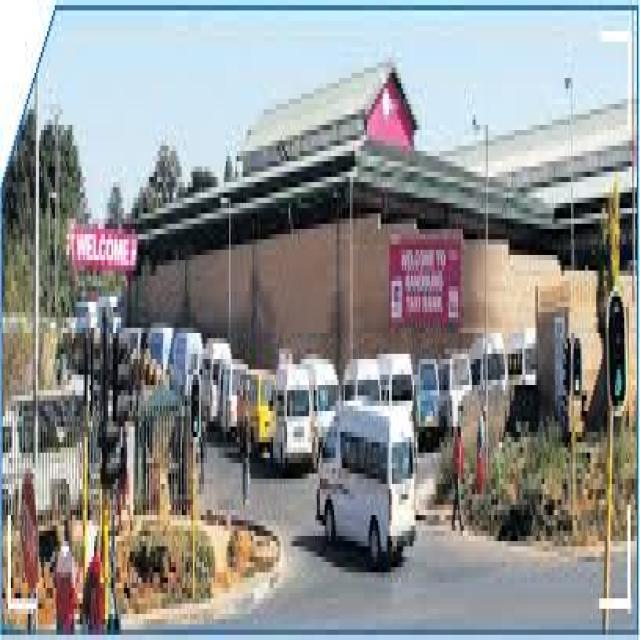MiniBus taxi: (314, 401, 424, 567), (272, 343, 316, 479)
Pedestrians: (447, 416, 471, 536), (238, 375, 252, 510)
